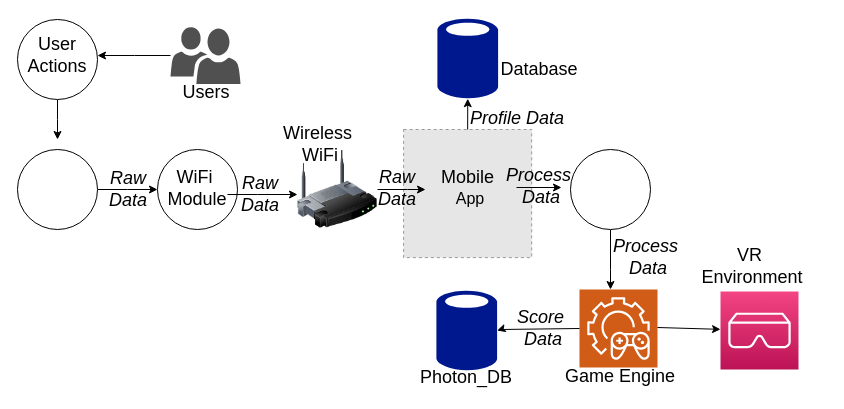
Image size: 844x409. Some labels were removed from this diagram. Grey dashed boxes stand in for pictures. Each missing label, with the centre of its shape:
"Sensors" goes at (57,189).
"UDP Socket" goes at (610,189).
